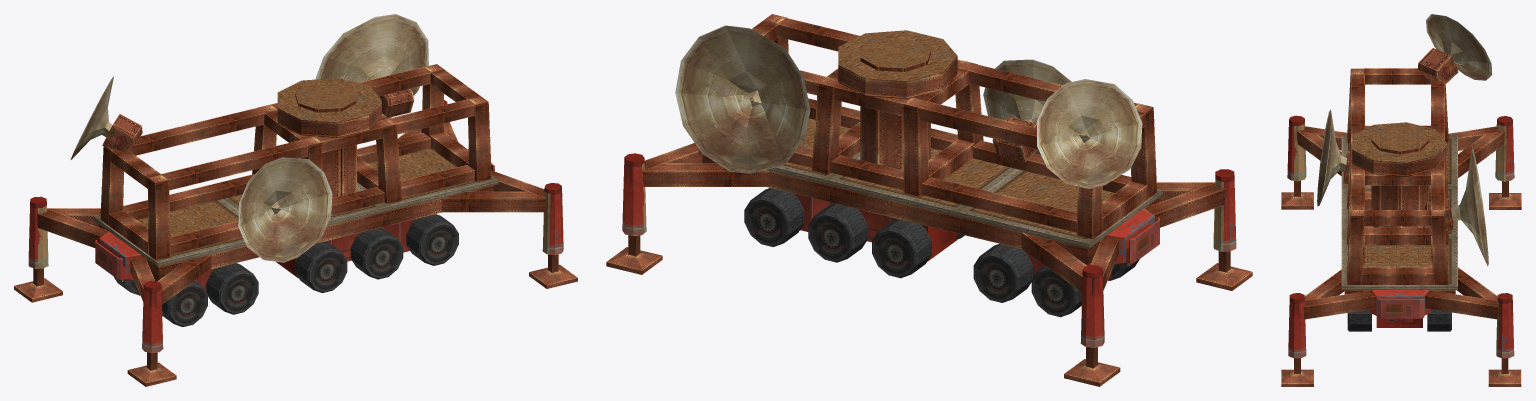
Rendered from C1SMRADARST_H.bgf.obj.
3 renders of one model, left to right at view 1: azimuth 30°, elevation 25°; view 2: azimuth 150°, elevation 25°; view 3: azimuth 270°, elevation 25°, orthographic. The views are drawn at different scales.
Visible parts, largest first — view 1: C1SMRADARST, FRAG13, FRAG12, FRAG10, FRAG04, FRAG11, FRAG07, FRAG09, FRAG00, FRAG05, FRAG06, FRAG02 (+1 smaller); view 2: C1SMRADARST, FRAG12, FRAG01, FRAG07, FRAG00, FRAG09, FRAG10, FRAG13, FRAG11, FRAG02, FRAG06, FRAG03 (+1 smaller); view 3: C1SMRADARST, FRAG04, FRAG01, FRAG07, FRAG00, FRAG12, FRAG08, FRAG11, FRAG10, FRAG13, FRAG09, FRAG06.
Part boxes in pixels (x1,y1,x2,y2): C1SMRADARST: (14, 100, 577, 386); FRAG13: (238, 157, 332, 262); FRAG12: (315, 14, 428, 118); FRAG10: (161, 99, 475, 190); FRAG04: (421, 64, 491, 182); FRAG11: (100, 146, 170, 260); FRAG07: (277, 78, 381, 137); FRAG09: (130, 67, 431, 155); FRAG00: (295, 83, 356, 197); FRAG05: (350, 228, 403, 279); FRAG06: (406, 214, 458, 265); FRAG02: (206, 263, 258, 314); C1SMRADARST: (606, 60, 1252, 386); FRAG12: (675, 25, 810, 173); FRAG01: (1037, 79, 1142, 188); FRAG07: (838, 30, 957, 98); FRAG00: (860, 38, 930, 170); FRAG09: (799, 70, 1038, 149); FRAG10: (778, 18, 1137, 105); FRAG13: (983, 59, 1071, 161); FRAG11: (1076, 103, 1156, 238); FRAG02: (973, 243, 1033, 302); FRAG06: (744, 188, 804, 246); FRAG03: (872, 219, 931, 278); C1SMRADARST: (1281, 115, 1521, 386); FRAG04: (1347, 210, 1448, 284); FRAG01: (1418, 14, 1491, 84); FRAG07: (1352, 122, 1446, 176); FRAG00: (1371, 127, 1429, 227); FRAG12: (1424, 146, 1488, 266); FRAG08: (1369, 290, 1430, 322); FRAG11: (1347, 68, 1448, 142); FRAG10: (1351, 74, 1364, 210); FRAG13: (1317, 109, 1365, 206); FRAG09: (1431, 78, 1444, 210); FRAG06: (1347, 309, 1451, 331).
Size of the model in its own units: 32.56 by 16.22 by 17.31.
Materials: 19 (19 with a texture image).
